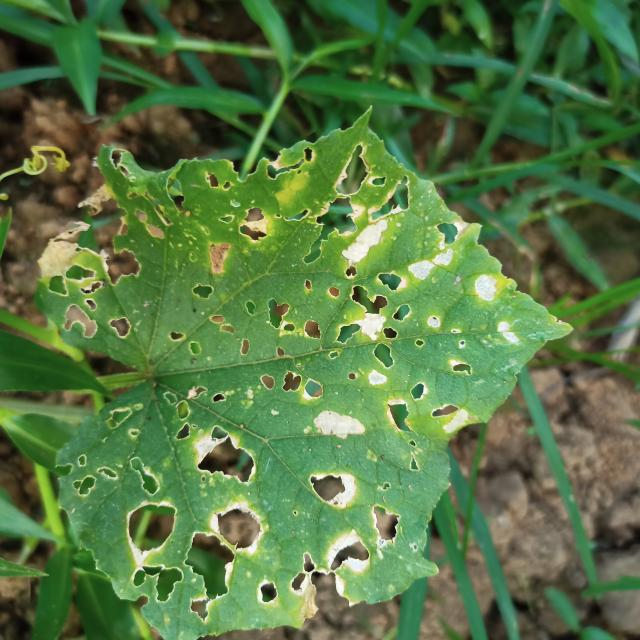disease_cucumber: (43, 172, 504, 603)
